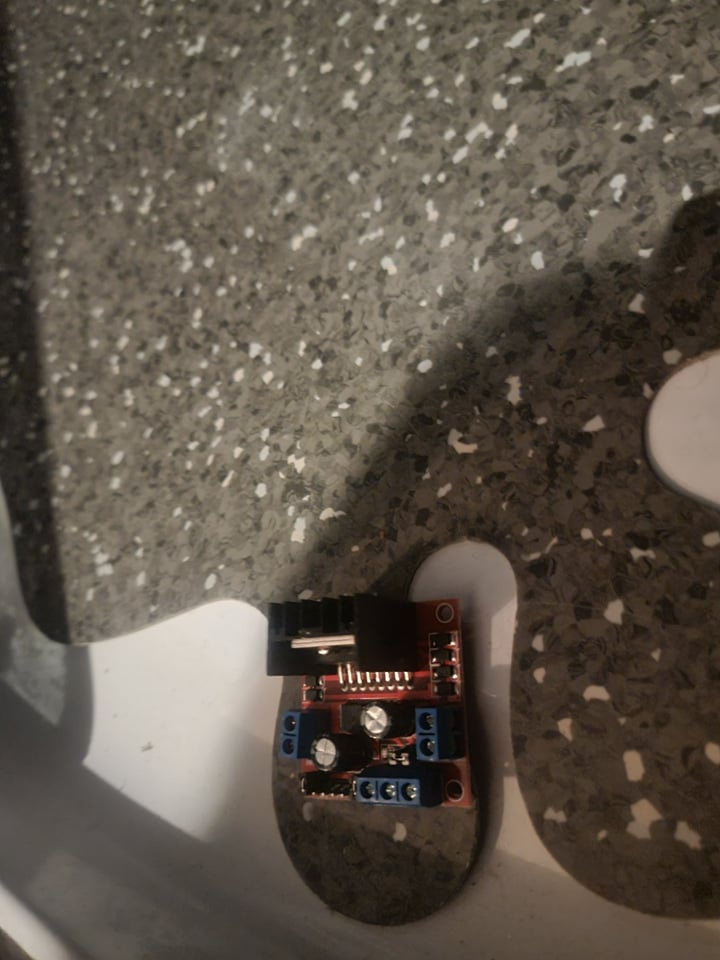MOTOR: (262, 596, 480, 817)
